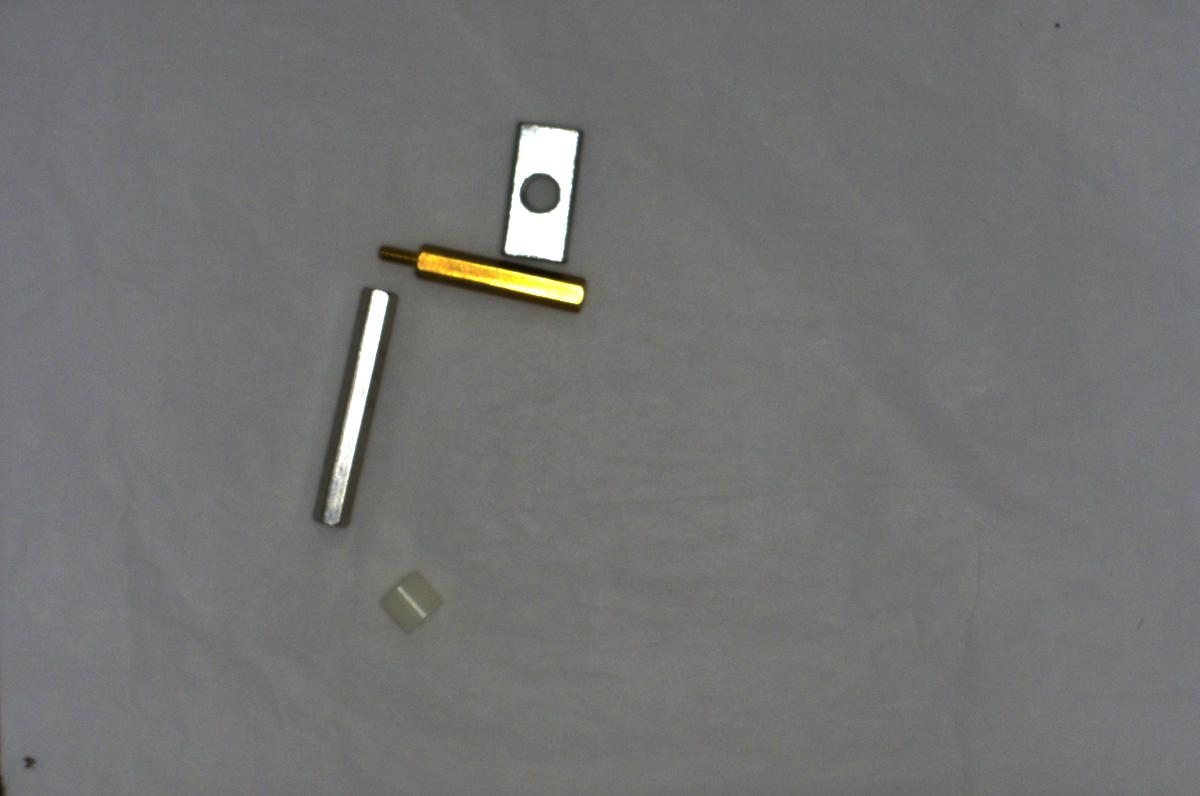Double hexagonal column: (304, 275, 395, 533)
Hexagon pillar: (366, 225, 599, 316)
Plastic cushion pillar: (358, 558, 460, 641)
Rectangular nut: (498, 114, 582, 268)
